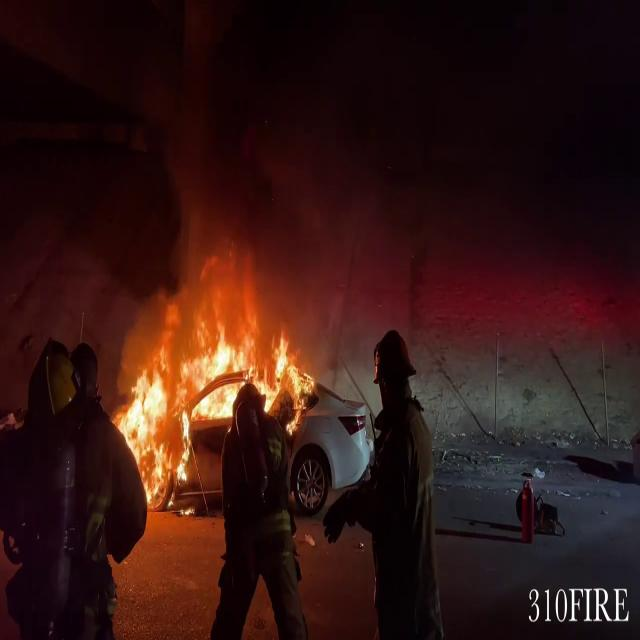Fire: (114, 304, 317, 499)
